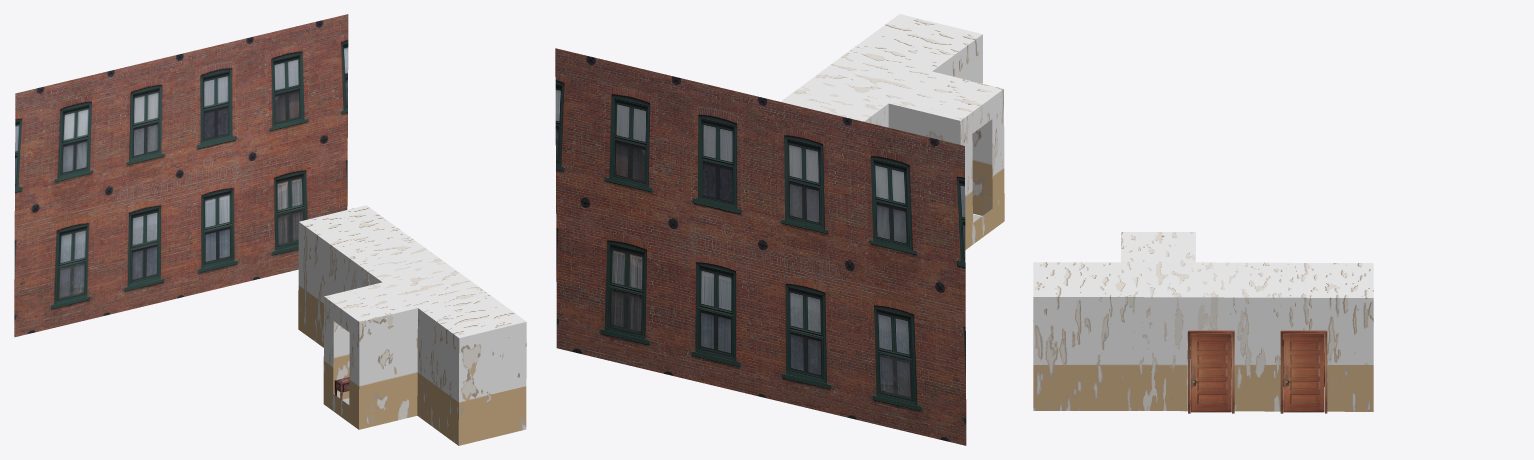
3 views of the same model, side by side, from view 1: azimuth 30°, elevation 25°; view 2: azimuth 150°, elevation 25°; view 3: azimuth 270°, elevation 25° (orthographic). The views are drawn at different scales.
Visible parts, largest first — view 1: font_Plane, wall_Cube.001; view 2: font_Plane, wall_Cube.001; view 3: wall_Cube.001, door2_InteriorDoor.002, door1_InteriorDoor.004.
Boxes of the visible parts, x1,y1,x2,y2 form: font_Plane: (14,14,348,337); wall_Cube.001: (298,205,526,445); font_Plane: (555,48,966,445); wall_Cube.001: (781,14,1004,249); wall_Cube.001: (1033,232,1373,411); door2_InteriorDoor.002: (1280,330,1327,413); door1_InteriorDoor.004: (1188,330,1234,413).
Bounding box in the file's own units: 10.9 × 7.65 × 12.95.
